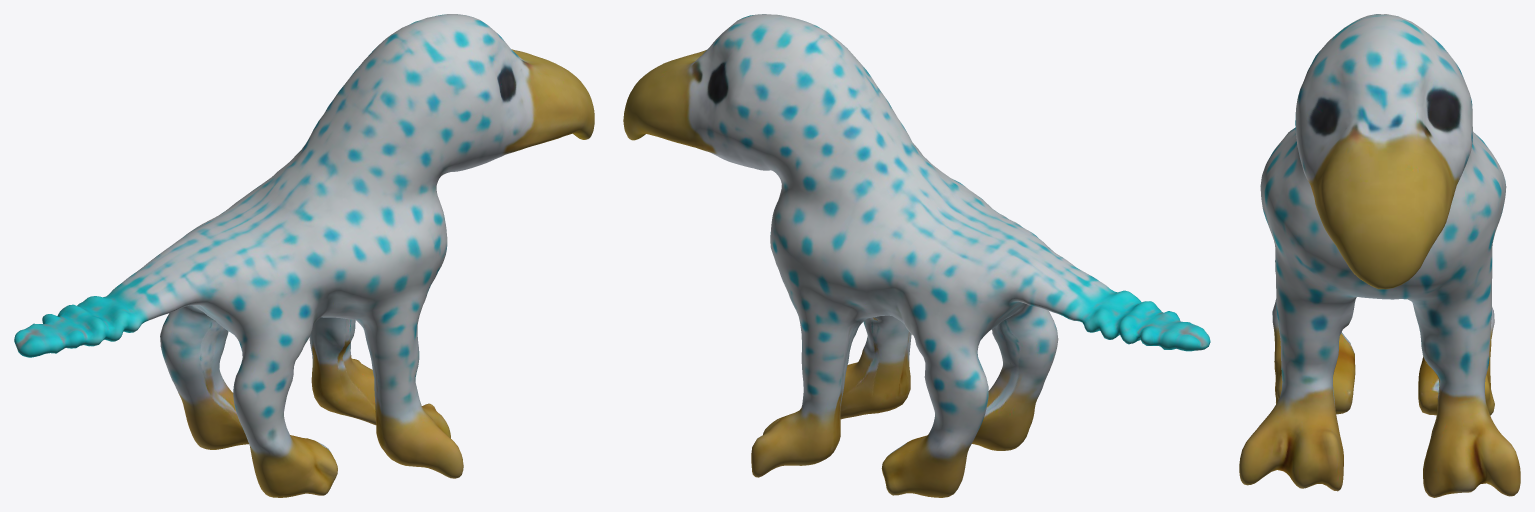
File: 8a7fe32fd770_a_griffin_with_whit.fbx
3 renders of one model, left to right at view 1: azimuth 30°, elevation 25°; view 2: azimuth 150°, elevation 25°; view 3: azimuth 270°, elevation 25°, orthographic. The views are drawn at different scales.
Visible parts, largest first — view 1: mesh; view 2: mesh; view 3: mesh.
Boxes of the visible parts, box(x1,y1,x2,y2) form: mesh: box(14, 14, 594, 497); mesh: box(623, 14, 1210, 497); mesh: box(1239, 14, 1520, 497).
Bounding box in the file's own units: 99.88 × 68.59 × 35.71.
